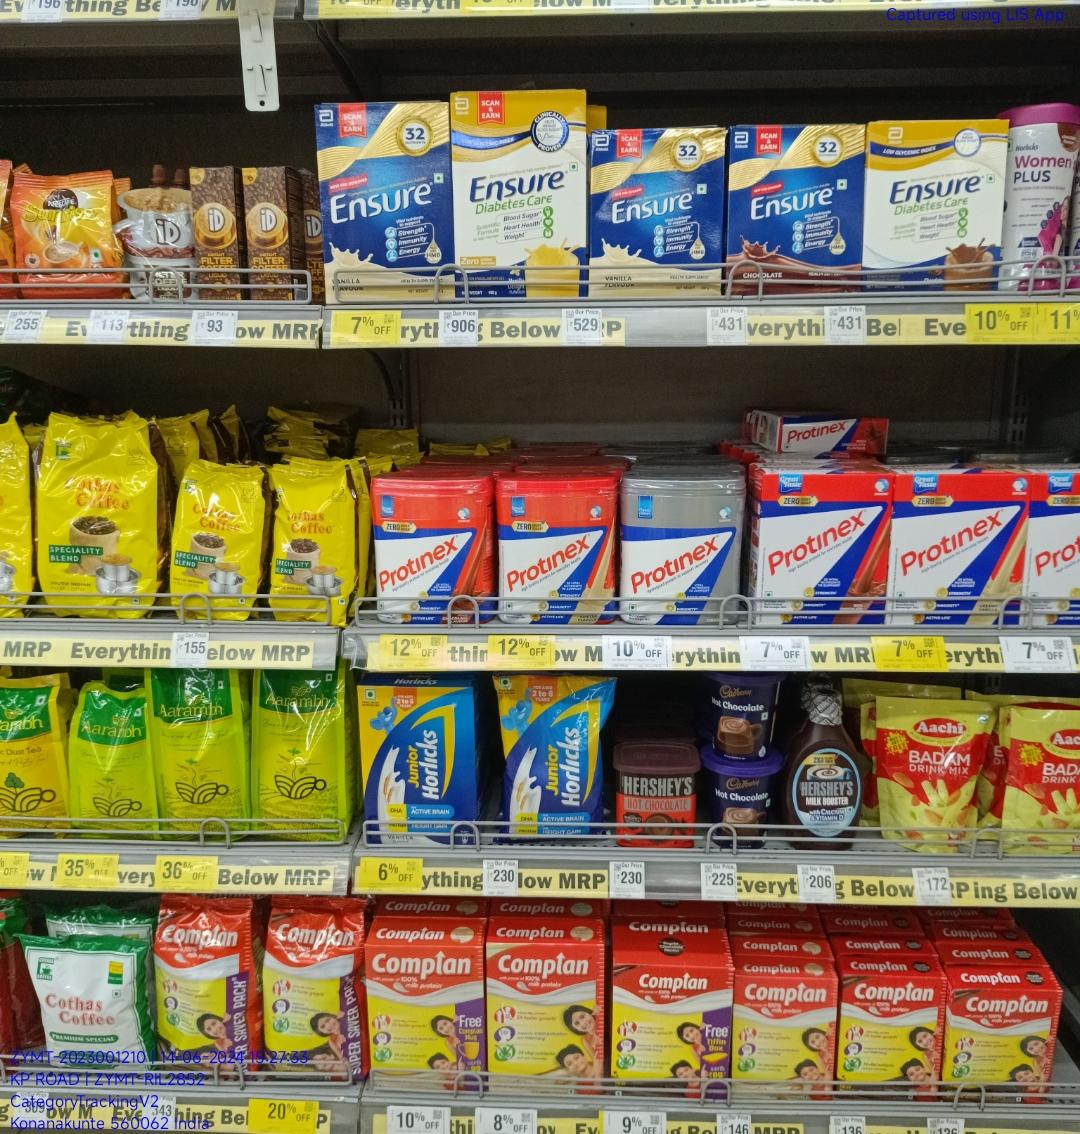COMPLAN_CHOCOLATE_500_GMS_PACK: (612, 965, 730, 1096), (840, 976, 939, 1100), (949, 986, 1051, 1103)
COMPLAN_KESAR_BADAM_500_GMS_PACK: (487, 944, 603, 1092), (369, 946, 484, 1091), (734, 975, 835, 1101)
COMPLAN_RC_POUCH_700_GMS_12: (155, 895, 258, 1079), (263, 901, 363, 1082)
ENSURE_VANILLA_400_G_PACK: (321, 101, 450, 301)
PROTINEX_CHOCOLATE_400_G_JAR: (375, 478, 492, 626)
PROTINEX_ORIGINAL_400_G_JAR: (624, 479, 745, 623)
PROTINEX_VANILLA_400_G_JAR: (498, 481, 618, 625)
